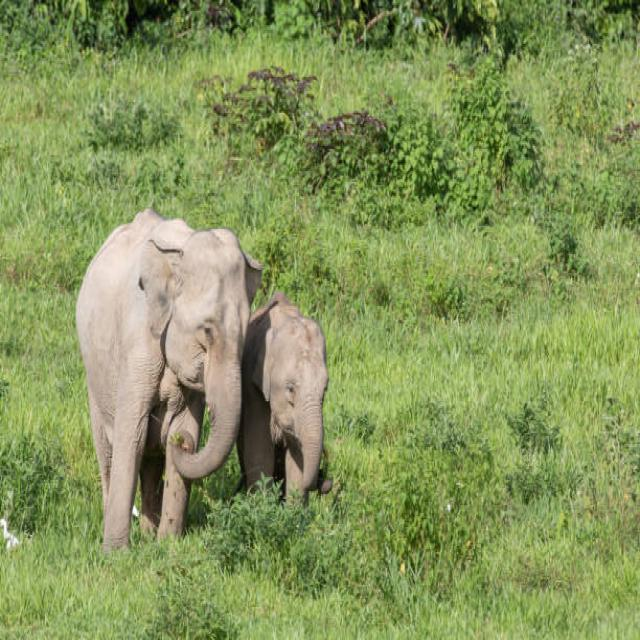Elephant: (71, 210, 252, 547), (240, 297, 338, 510)
